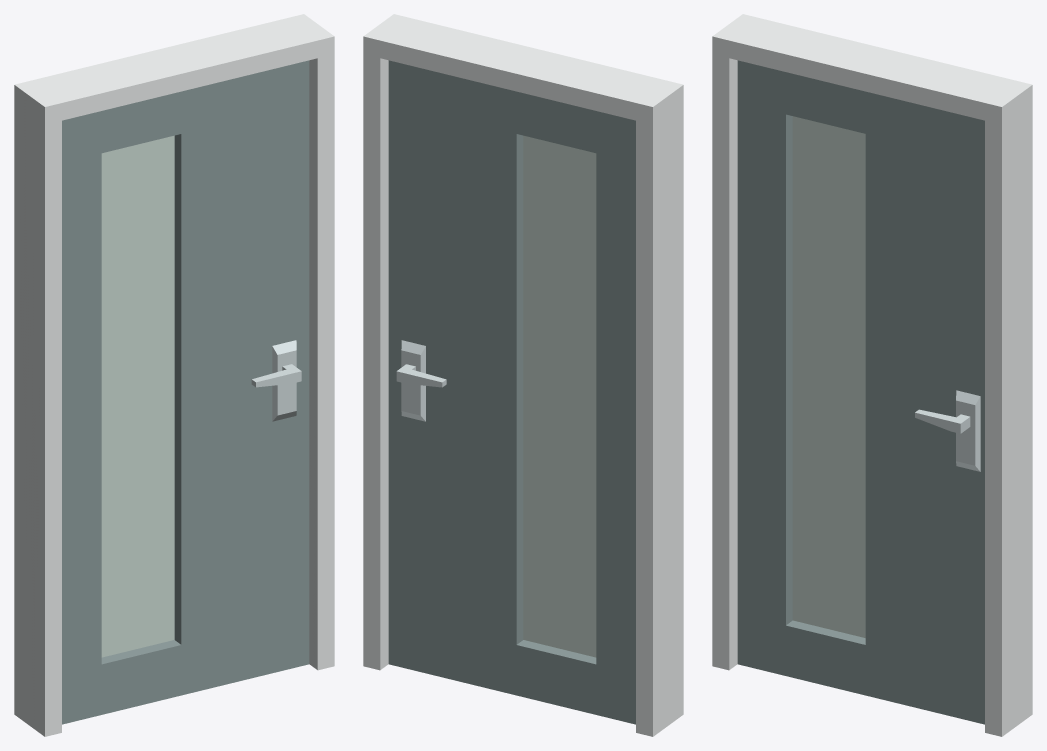
Rendered from doorwayFront.glb.
3 renders of one model, left to right at view 1: azimuth 30°, elevation 25°; view 2: azimuth 150°, elevation 25°; view 3: azimuth 330°, elevation 25°, orthographic.
Visible parts, largest first — view 1: door, doorwayFront(Clone); view 2: door, doorwayFront(Clone); view 3: door, doorwayFront(Clone).
Part boxes in pixels (x1,y1,x2,y2): door: [62, 60, 309, 724]; doorwayFront(Clone): [14, 14, 334, 736]; door: [388, 60, 635, 724]; doorwayFront(Clone): [363, 14, 683, 736]; door: [737, 60, 984, 724]; doorwayFront(Clone): [712, 14, 1032, 736].
Size of the model in its own units: 0.9866 by 2.05 by 0.2302.
Materials: 4 (4 with a texture image).
